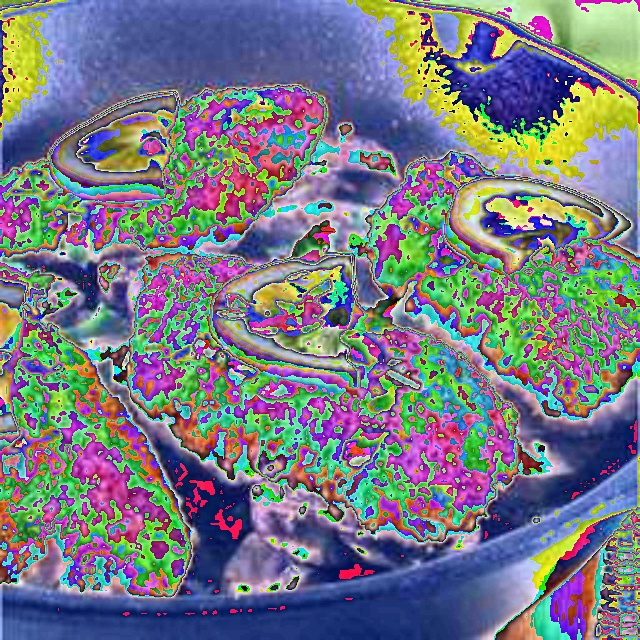background: (0, 83, 640, 594)
